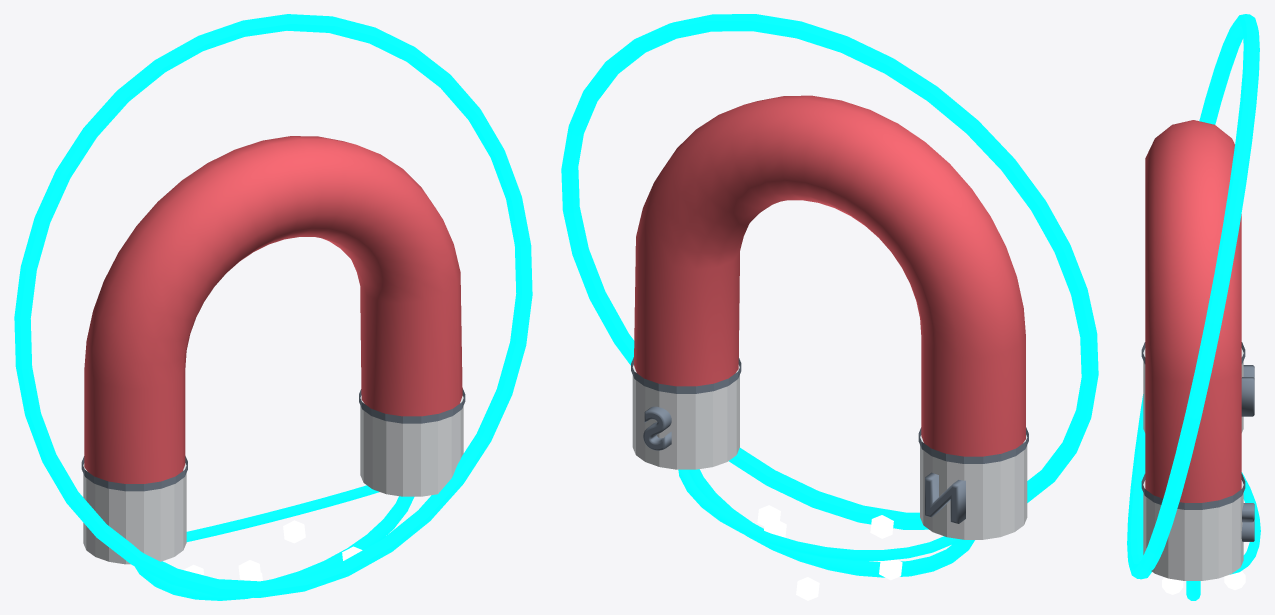
File: magnet.glb
3 views of the same model, side by side, from view 1: azimuth 30°, elevation 25°; view 2: azimuth 150°, elevation 25°; view 3: azimuth 270°, elevation 25° (orthographic). The views are drawn at different scales.
Visible parts, largest first — view 1: Horseshoe_Arch_Red, MagneticHalo_Ring, PolarTip_1, PolarTip_0, MagneticFluxArc_Primary, MagneticFluxArc_Secondary, SeamRing_1, SeamRing_0; view 2: Horseshoe_Arch_Red, MagneticHalo_Ring, PolarTip_1, PolarTip_0, MagneticFluxArc_Secondary, MagneticFluxArc_Primary, Text_Pole_N, Text_Pole_S, SeamRing_1, SeamRing_0; view 3: Horseshoe_Arch_Red, MagneticHalo_Ring, PolarTip_1, MagneticFluxArc_Secondary, SeamRing_1, Text_Pole_N, Text_Pole_S, PolarTip_0, MagneticBead_1, MagneticBead_2, MagneticFluxArc_Primary.
Boxes of the visible parts, x1=… form: Horseshoe_Arch_Red: x1=84, y1=136, x2=462, y2=483; MagneticHalo_Ring: x1=14, y1=14, x2=532, y2=597; PolarTip_1: x1=360, y1=395, x2=463, y2=496; PolarTip_0: x1=83, y1=463, x2=186, y2=564; MagneticFluxArc_Primary: x1=134, y1=496, x2=414, y2=600; MagneticFluxArc_Secondary: x1=186, y1=485, x2=379, y2=541; SeamRing_1: x1=359, y1=388, x2=465, y2=423; SeamRing_0: x1=81, y1=456, x2=187, y2=491; Horseshoe_Arch_Red: x1=634, y1=95, x2=1025, y2=456; MagneticHalo_Ring: x1=561, y1=14, x2=1098, y2=529; PolarTip_1: x1=632, y1=365, x2=739, y2=469; PolarTip_0: x1=920, y1=435, x2=1027, y2=539; MagneticFluxArc_Secondary: x1=678, y1=469, x2=959, y2=560; MagneticFluxArc_Primary: x1=689, y1=469, x2=974, y2=577; Text_Pole_N: x1=925, y1=472, x2=965, y2=523; Text_Pole_S: x1=643, y1=406, x2=671, y2=450; SeamRing_1: x1=631, y1=357, x2=741, y2=393; SeamRing_0: x1=918, y1=427, x2=1028, y2=463; Horseshoe_Arch_Red: x1=1145, y1=120, x2=1241, y2=502; MagneticHalo_Ring: x1=1127, y1=14, x2=1259, y2=579; PolarTip_1: x1=1143, y1=480, x2=1243, y2=580; MagneticFluxArc_Secondary: x1=1230, y1=472, x2=1260, y2=574; SeamRing_1: x1=1141, y1=474, x2=1245, y2=509; Text_Pole_N: x1=1241, y1=365, x2=1254, y2=416; Text_Pole_S: x1=1241, y1=503, x2=1254, y2=541; PolarTip_0: x1=1143, y1=348, x2=1243, y2=432; MagneticBead_1: x1=1224, y1=571, x2=1245, y2=589; MagneticBead_2: x1=1162, y1=577, x2=1183, y2=594; MagneticFluxArc_Primary: x1=1186, y1=581, x2=1200, y2=600.
Bounding box in the file's own units: 1.11 × 1.17 × 0.2578.
